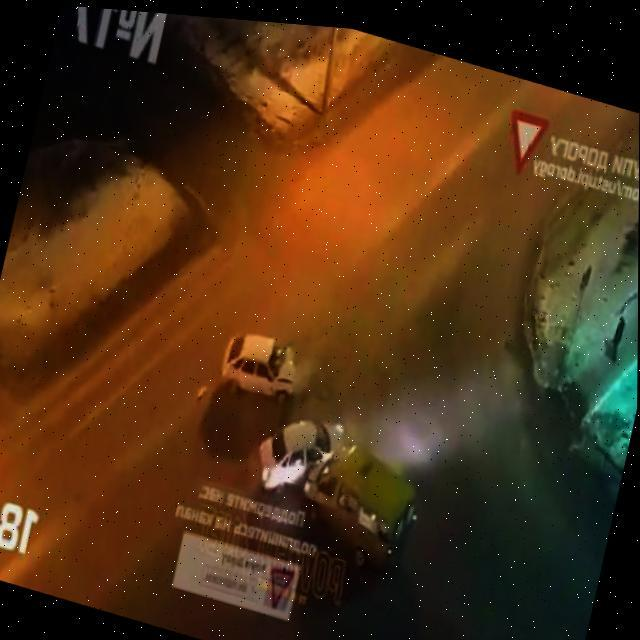Car Accident Detector - v4 Generation1 Exported: (232, 392, 457, 582)
